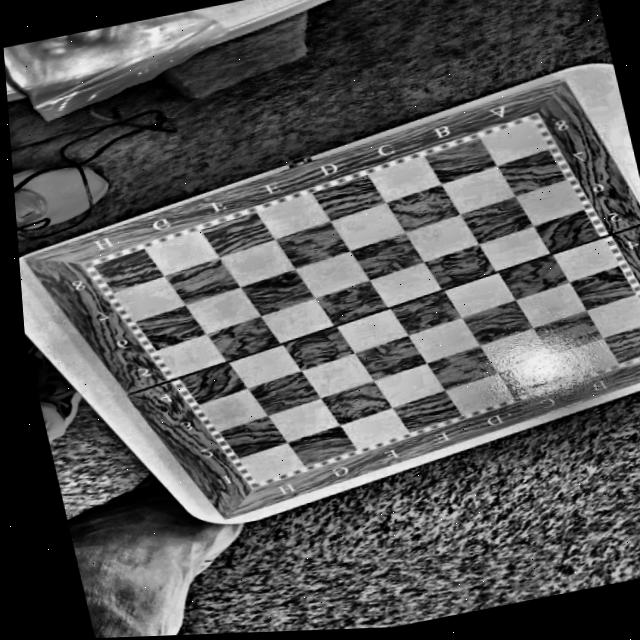chessboard: (7, 64, 640, 550)
